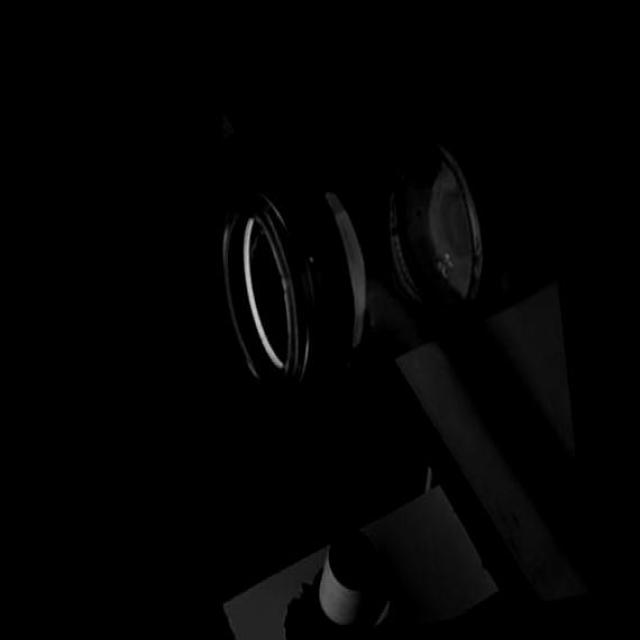defect: (269, 253, 299, 306), (298, 242, 318, 270)
glass: (188, 68, 514, 446)
